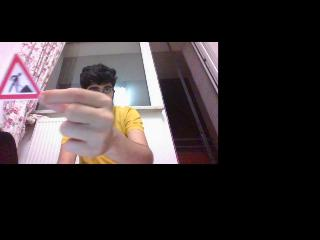construction: (1, 56, 38, 99)
